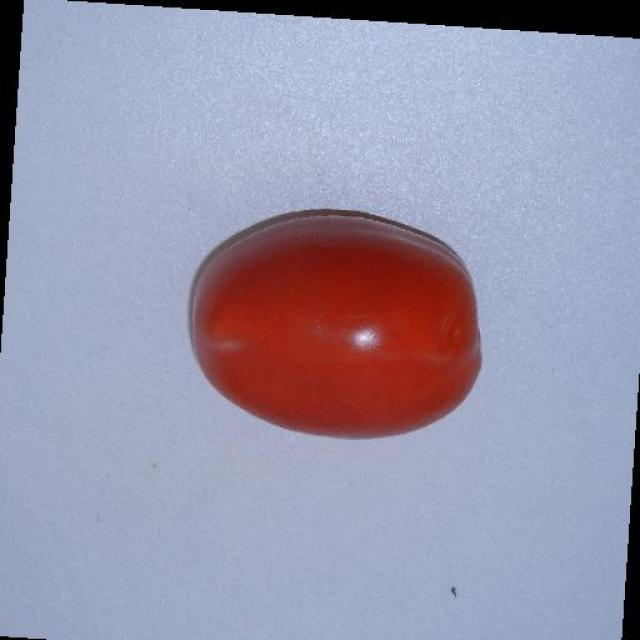Fresh Tomato: (168, 185, 496, 461)
